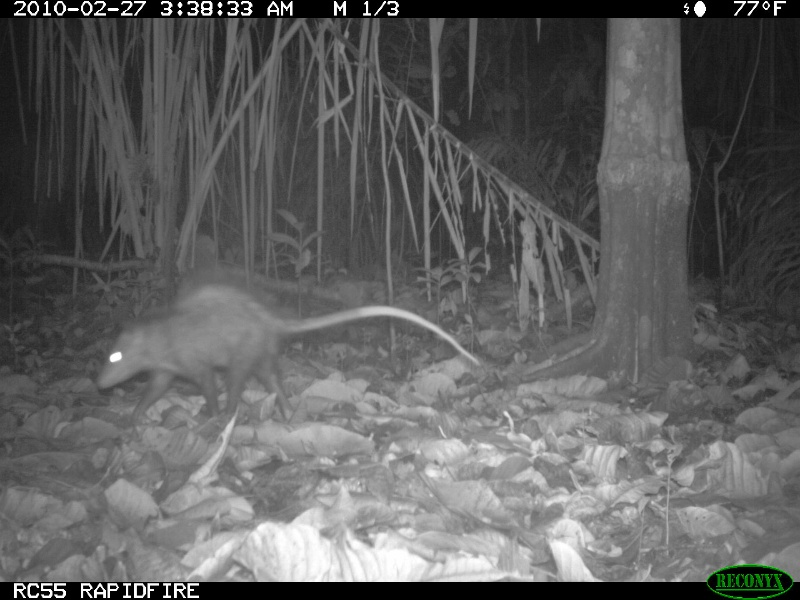opossum: (86, 286, 486, 426)
